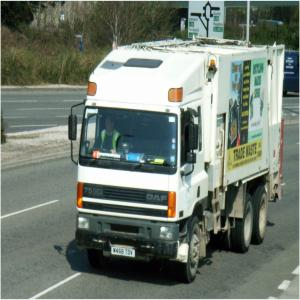Vehicle-registration-plate: (112, 248, 137, 257)
